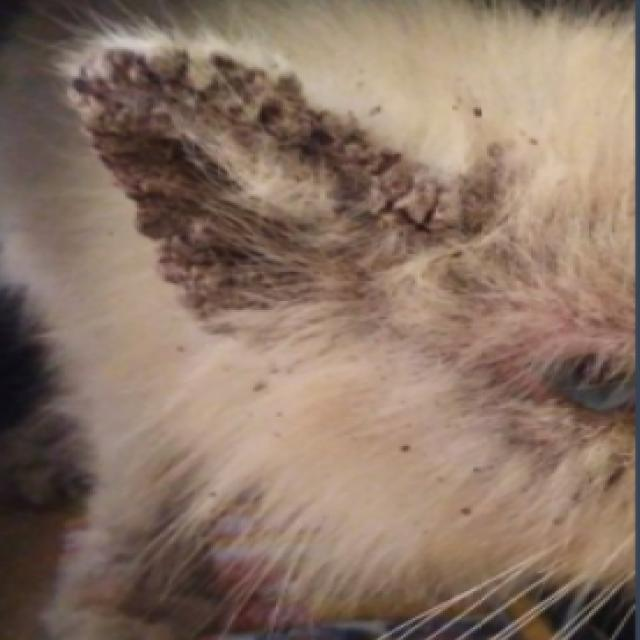ghe: (59, 40, 541, 411)
